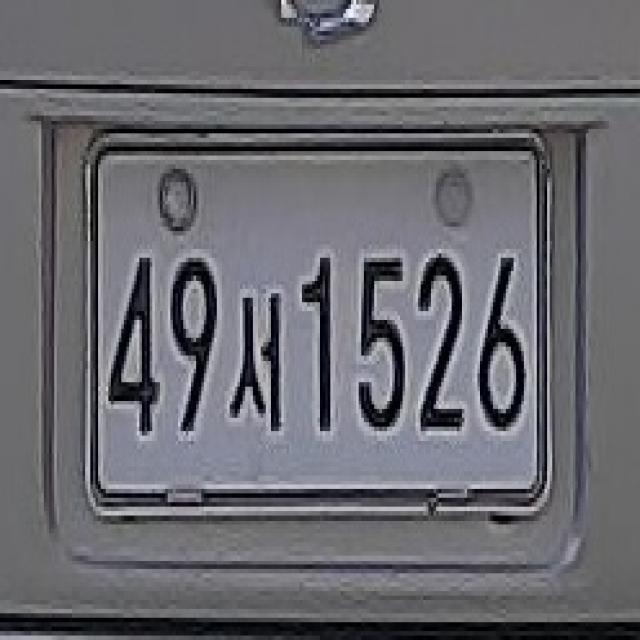1: (302, 232, 342, 452)
2: (413, 240, 468, 458)
4: (106, 245, 166, 453)
5: (358, 239, 408, 452)
6: (476, 241, 526, 448)
9: (167, 234, 219, 442)
license_plate: (76, 138, 546, 518)
seo: (228, 272, 289, 452)
